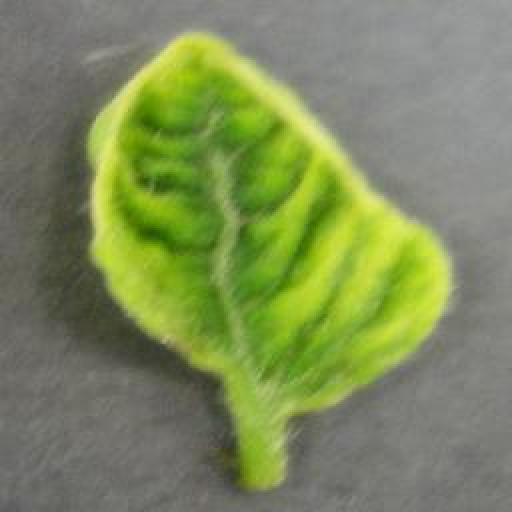disease_tomato: (82, 27, 454, 413)
